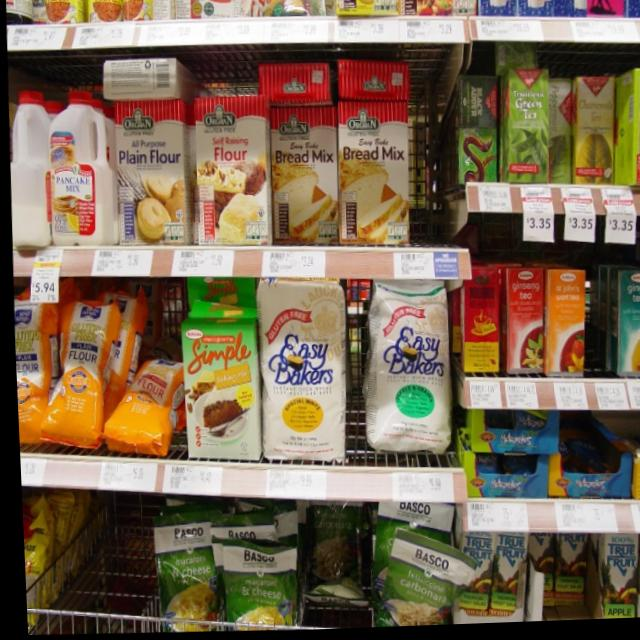q247: (501, 66, 554, 195)
